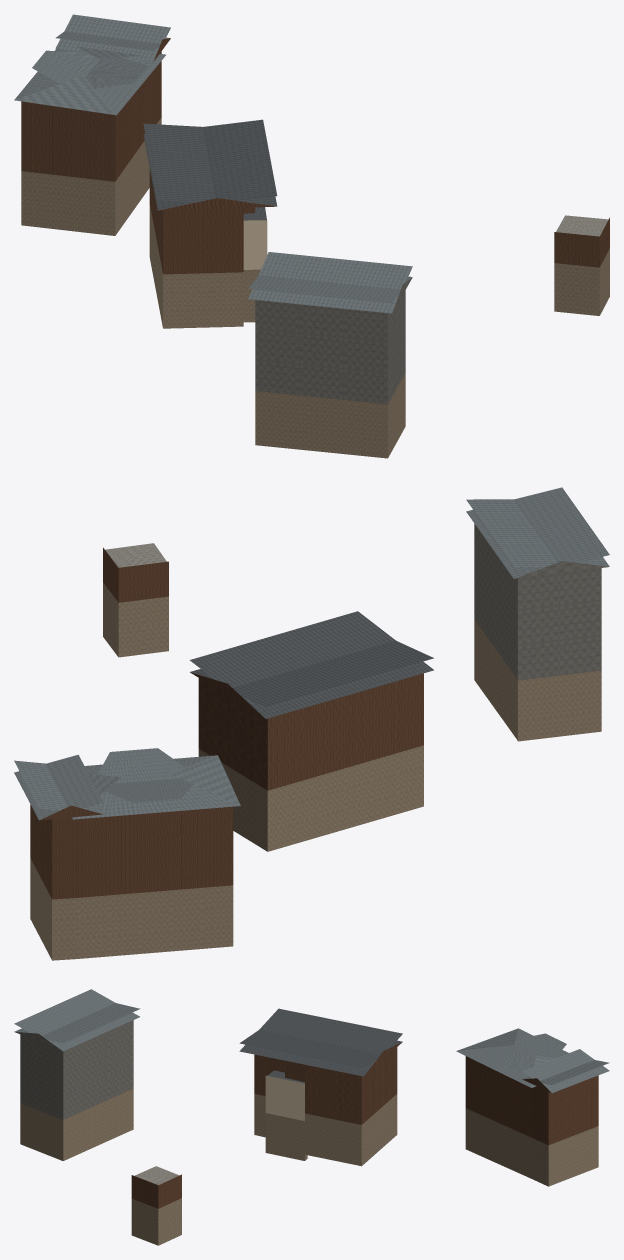
File: bld_c10_10_497.gltf
3 renders of one model, top to bottom at view 1: azimuth 30°, elevation 25°; view 2: azimuth 150°, elevation 25°; view 3: azimuth 270°, elevation 25°, orthographic. The views are drawn at different scales.
Parts seen in each view (by area): view 1: bld_c10_10_497; view 2: bld_c10_10_497; view 3: bld_c10_10_497.
Boxes of the visible parts, x1,y1,x2,y2 form: bld_c10_10_497: (14, 14, 609, 458); bld_c10_10_497: (14, 487, 609, 960); bld_c10_10_497: (14, 989, 609, 1245).
Bounding box in the file's own units: 39.94 × 14.9 × 66.77.
10 materials, 10 textured.
